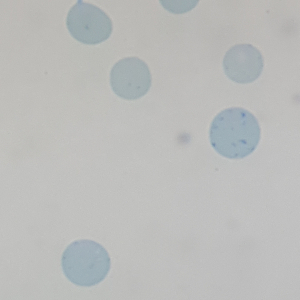aggregate reticulocyte: (208, 107, 261, 161)
erythrocyte: (60, 238, 112, 289), (221, 42, 265, 85)
punctate reticulocyte: (64, 1, 114, 46), (108, 55, 153, 101)
